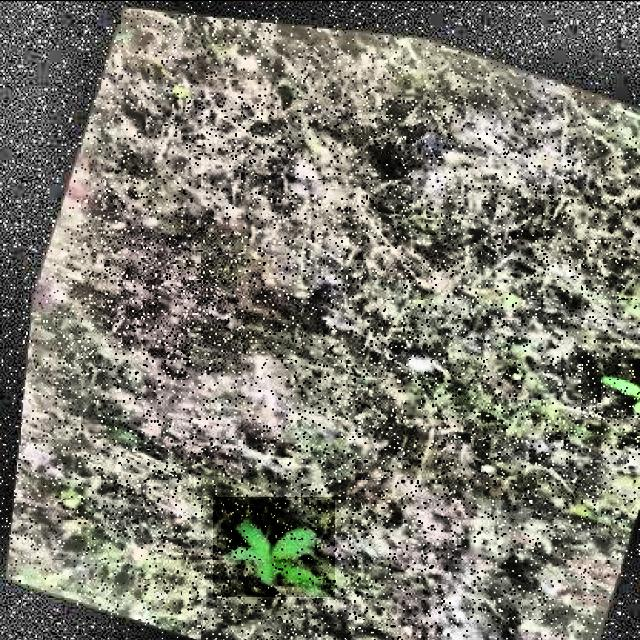Weeds: (213, 496, 335, 596), (581, 337, 640, 417)
